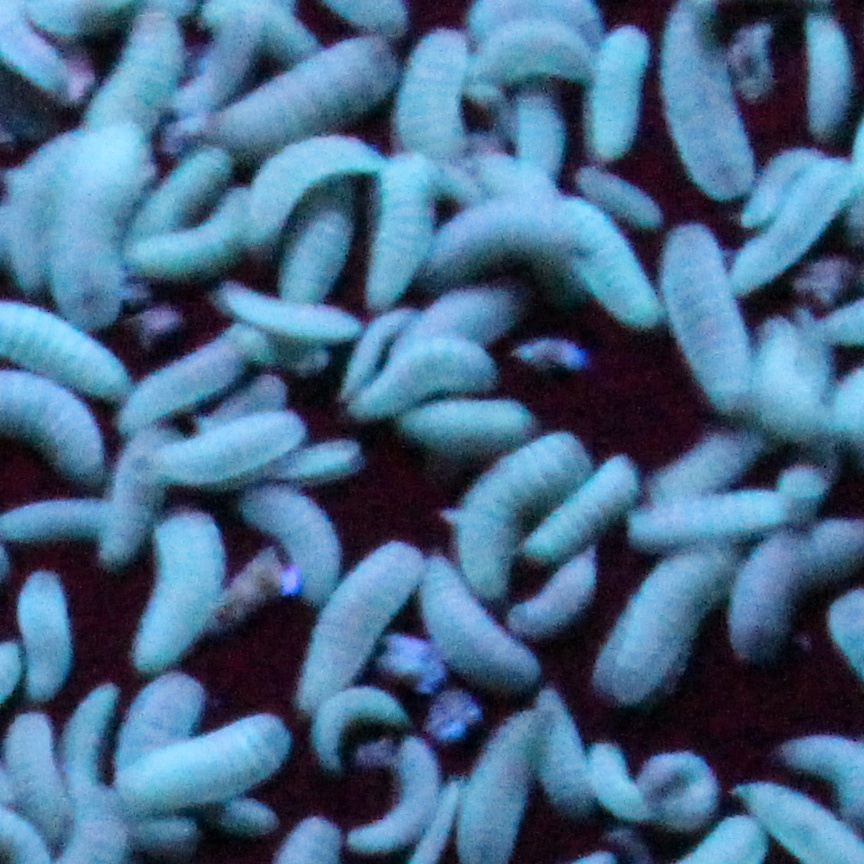larve: (457, 425, 595, 587), (45, 118, 145, 325), (299, 545, 421, 714), (601, 548, 735, 699), (715, 519, 863, 654), (214, 38, 397, 147), (659, 218, 761, 408), (134, 708, 292, 827), (414, 552, 537, 698), (246, 132, 385, 252), (112, 674, 203, 852), (534, 194, 657, 321), (134, 503, 225, 668), (421, 201, 601, 283), (735, 167, 850, 294), (115, 332, 263, 428), (241, 479, 339, 603), (132, 141, 230, 261), (152, 408, 303, 485), (395, 281, 530, 365), (363, 147, 435, 303), (515, 687, 597, 818), (101, 427, 179, 563), (346, 739, 441, 847), (525, 458, 634, 552), (143, 187, 261, 268), (361, 345, 501, 412), (748, 318, 823, 441), (403, 28, 465, 176), (623, 488, 795, 541), (50, 679, 126, 798), (659, 423, 765, 508), (310, 678, 410, 765), (221, 279, 361, 339), (394, 394, 534, 452), (626, 743, 721, 828), (459, 23, 605, 78), (5, 718, 68, 845), (586, 21, 646, 148), (577, 734, 650, 828), (512, 556, 599, 630), (574, 168, 666, 232), (334, 310, 410, 387), (515, 96, 565, 205), (28, 570, 66, 699), (274, 432, 366, 476)
